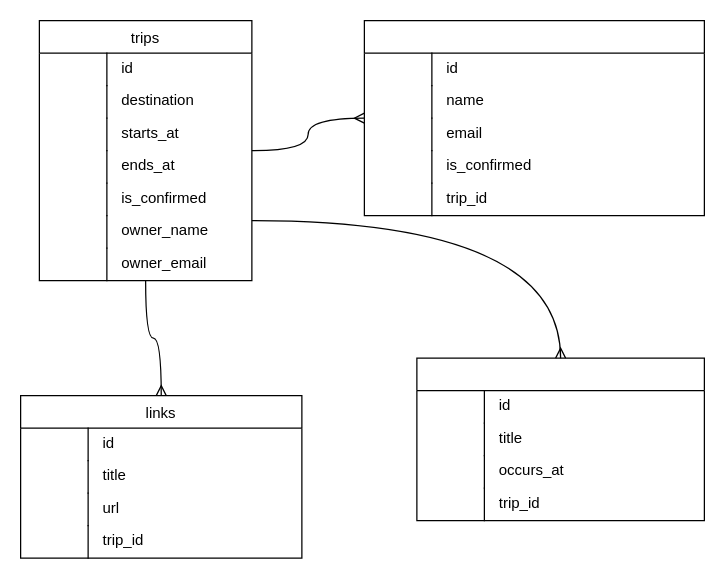
Image size: 725x579. Some labels were removed from this diagram. The shapes that lost their labels are listed below. From the top down, each one's box as (x1, y1, x2, y2) in pixels, then its label:
(363, 19, 704, 216): participants
(416, 357, 704, 521): activities
